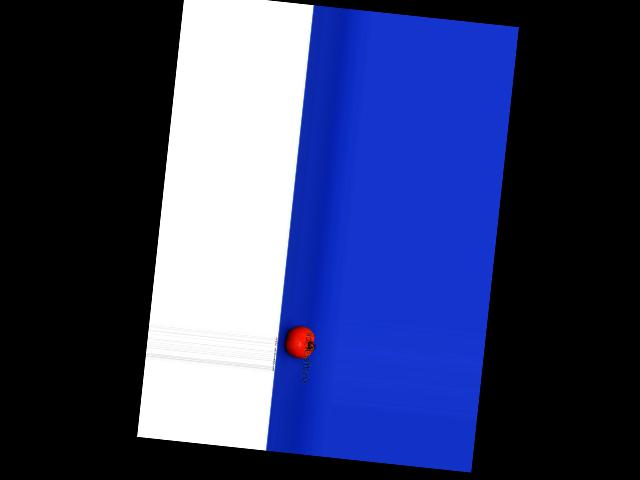tomato: (284, 323, 316, 359)
